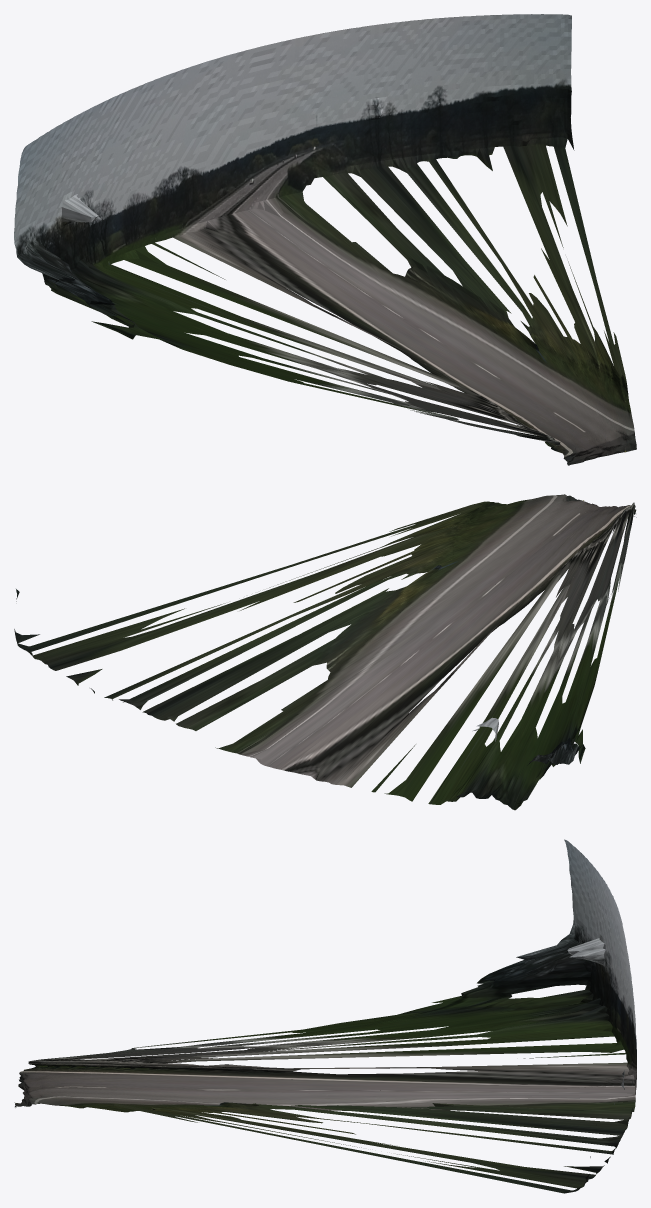
3 renders of one model, top to bottom at view 1: azimuth 30°, elevation 25°; view 2: azimuth 150°, elevation 25°; view 3: azimuth 270°, elevation 25°, orthographic. The views are drawn at different scales.
Visible parts, largest first — view 1: defaultobject; view 2: defaultobject; view 3: defaultobject.
Part boxes in pixels (bbox=[...]): defaultobject: bbox=[14, 14, 636, 465]; defaultobject: bbox=[14, 494, 636, 810]; defaultobject: bbox=[14, 839, 636, 1193].
Size of the model in its own units: 41.06 by 12.39 by 44.49.
1 material, 1 textured.
